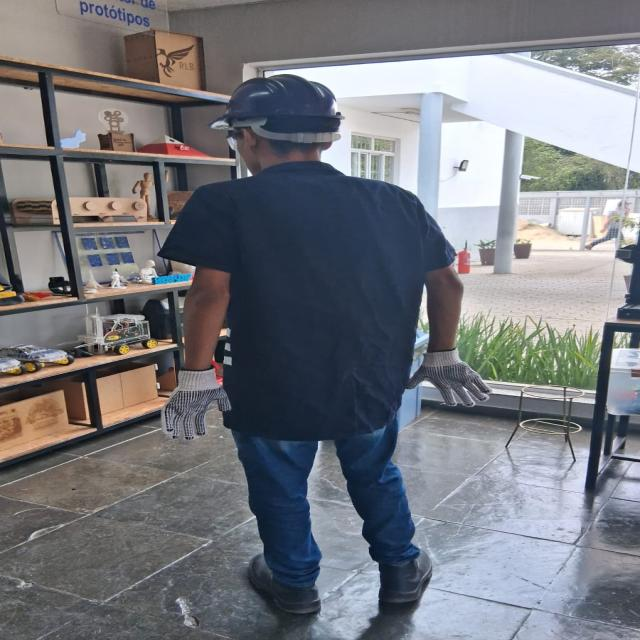BOTA: (246, 545, 340, 616), (374, 543, 433, 606)
CAPACETE: (206, 75, 345, 143)
JALECO: (153, 160, 459, 442)
LUVA: (154, 363, 234, 445), (402, 345, 498, 410)
OCULOS: (222, 133, 263, 153)
